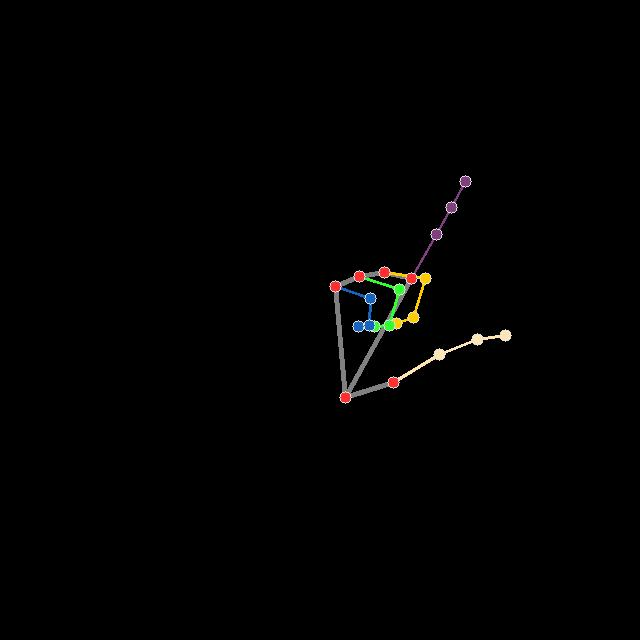gun: (329, 174, 512, 405)
